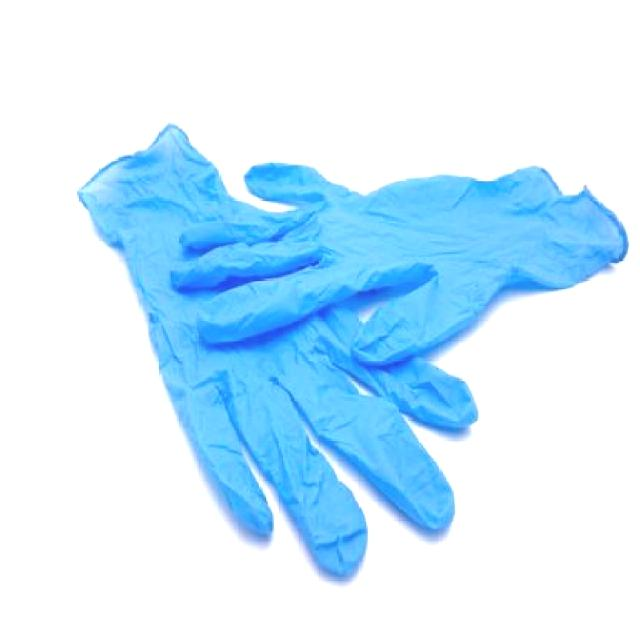glove: (74, 114, 628, 592)
